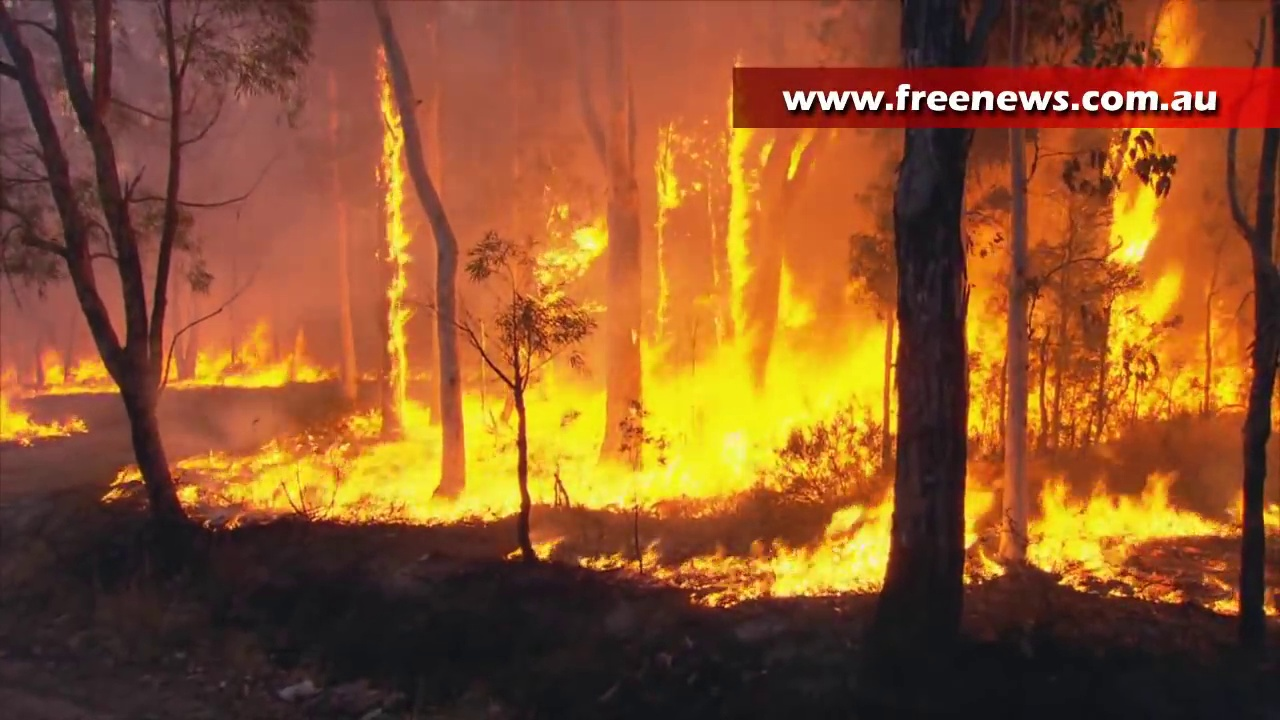fire: (344, 325, 895, 499), (968, 168, 1236, 416), (1028, 475, 1243, 608), (660, 506, 889, 595), (183, 441, 343, 517), (379, 56, 409, 397), (159, 326, 304, 387), (656, 118, 696, 338), (533, 211, 611, 290), (726, 127, 747, 327), (1, 350, 103, 391), (966, 483, 1000, 579), (1, 408, 87, 443), (1154, 2, 1199, 68), (780, 268, 811, 323)
